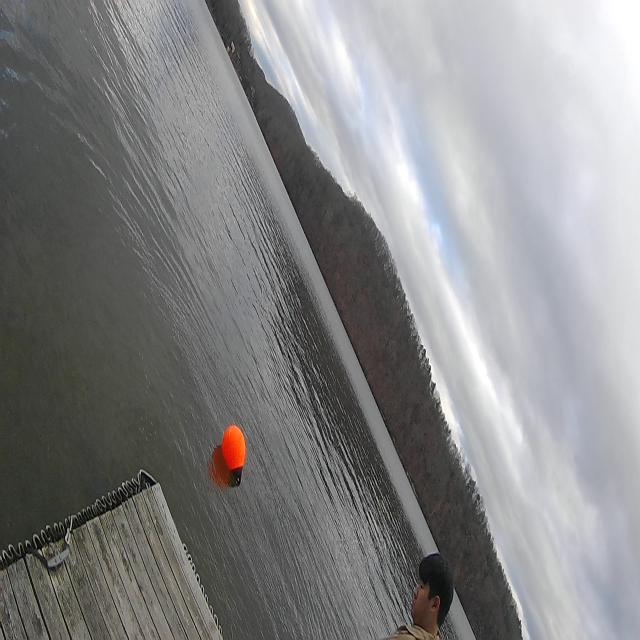Buoy: (222, 423, 246, 474)
